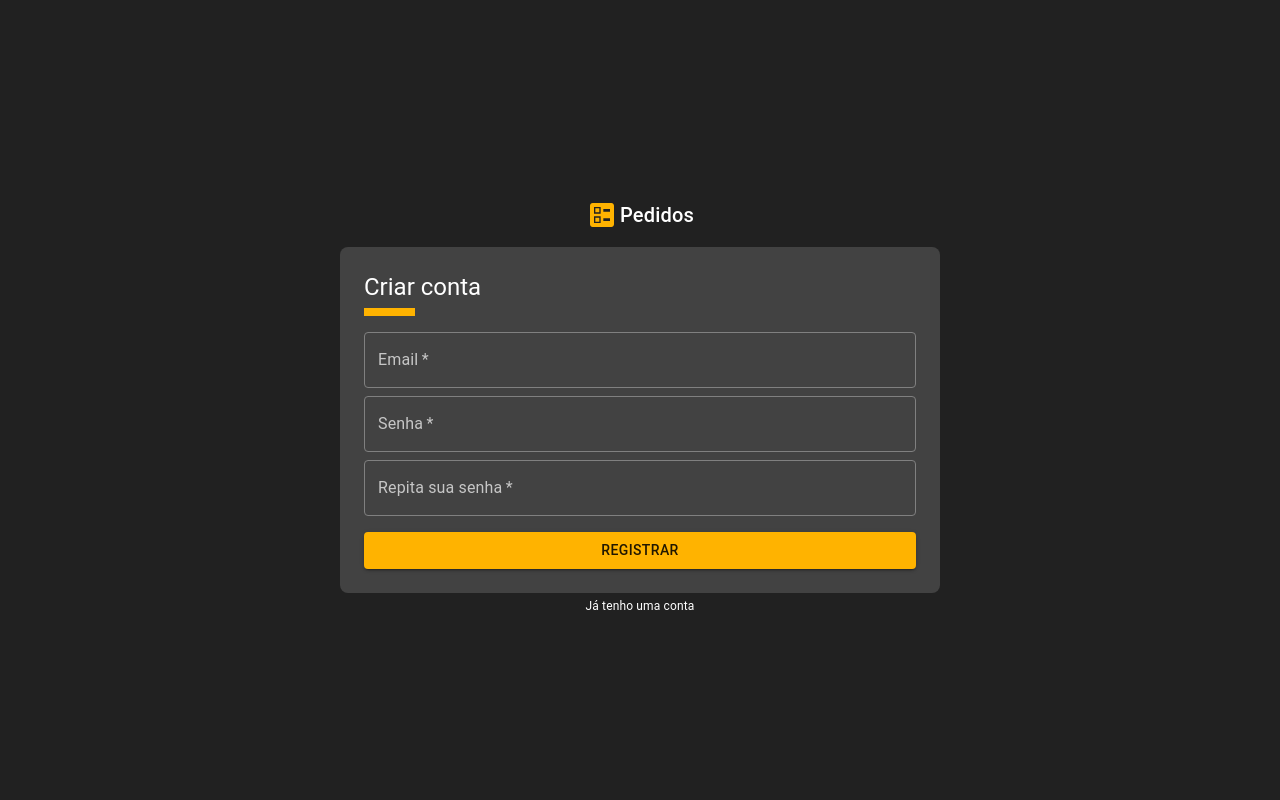
Test case: <Register /> › Email already in use
Type "teste@teste.com" into the field labelled "Email *". click: (640, 360)
box: [364,332,916,388]
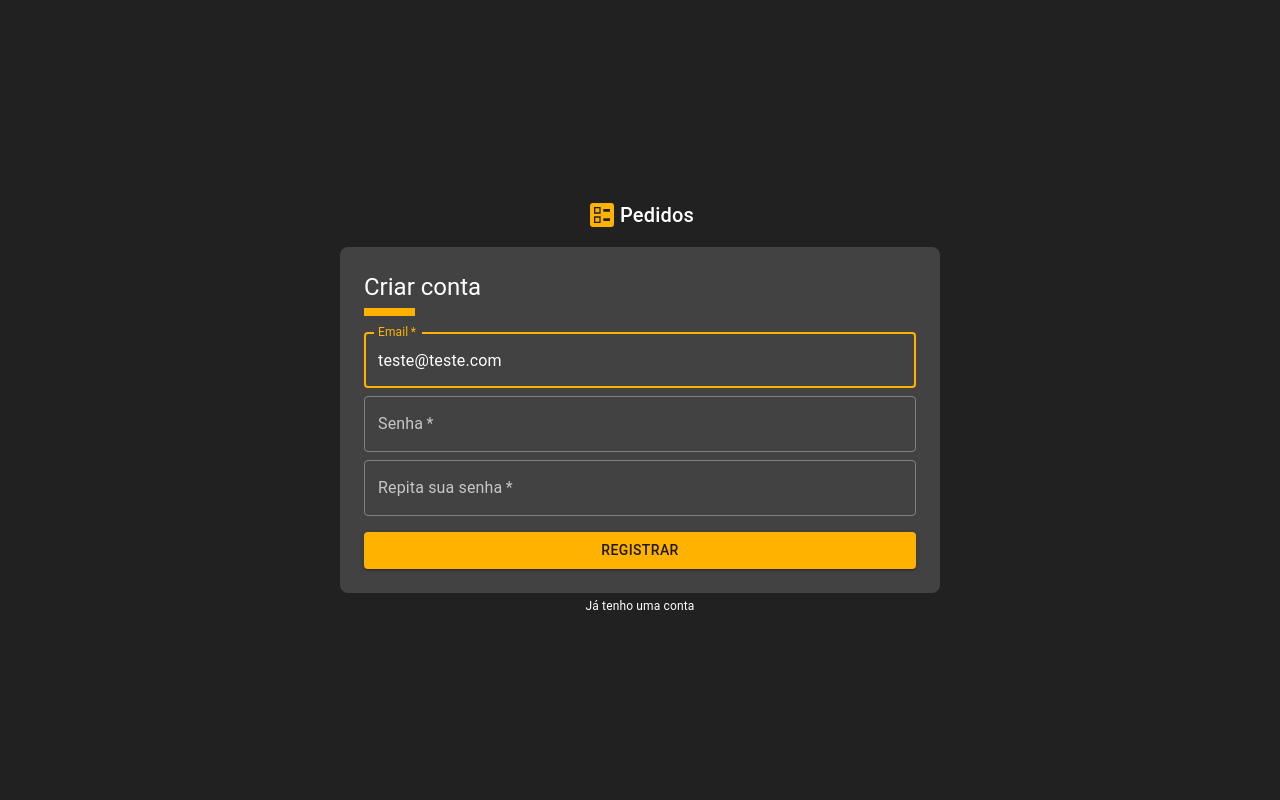
Type "123456" into the password field labelled "Senha *". click: (640, 424)
box: [364,396,916,452]
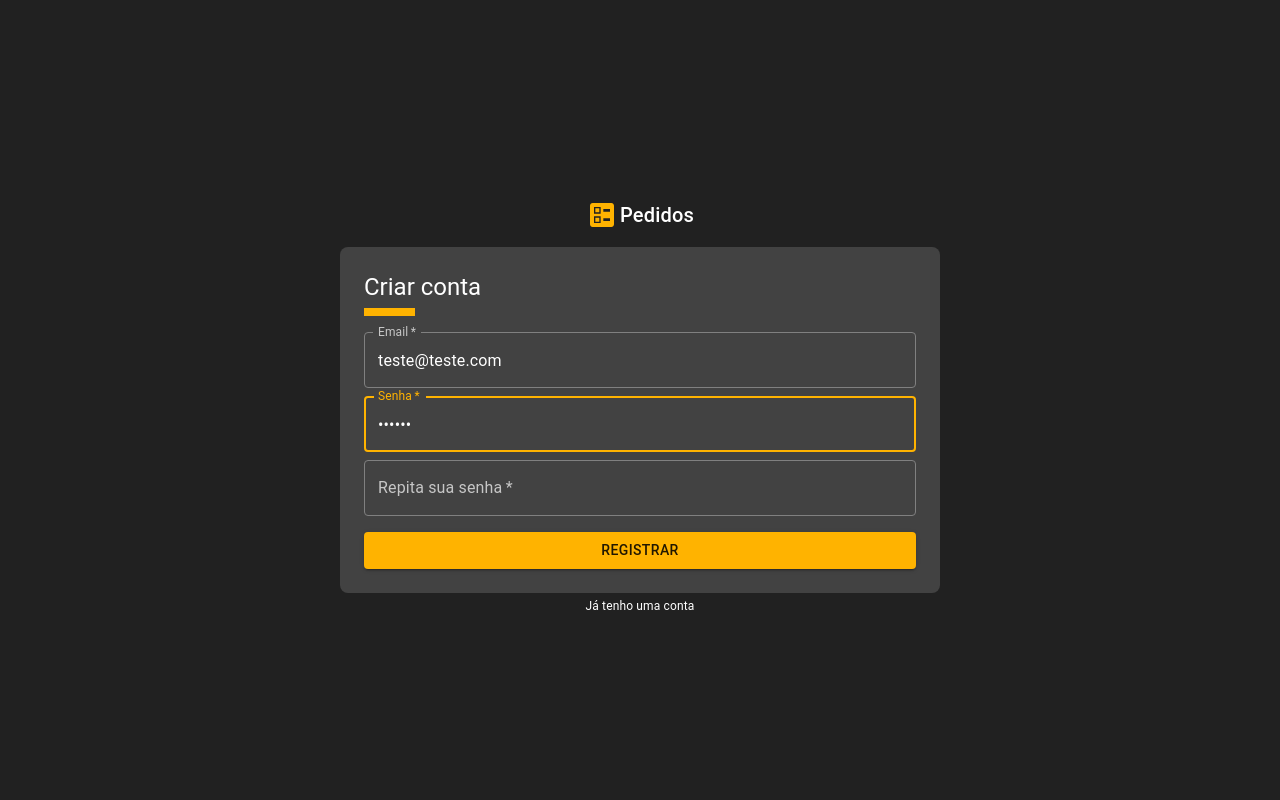
Type "123456" into the password field labelled "Repita sua senha *". click: (640, 488)
box: [364,460,916,516]
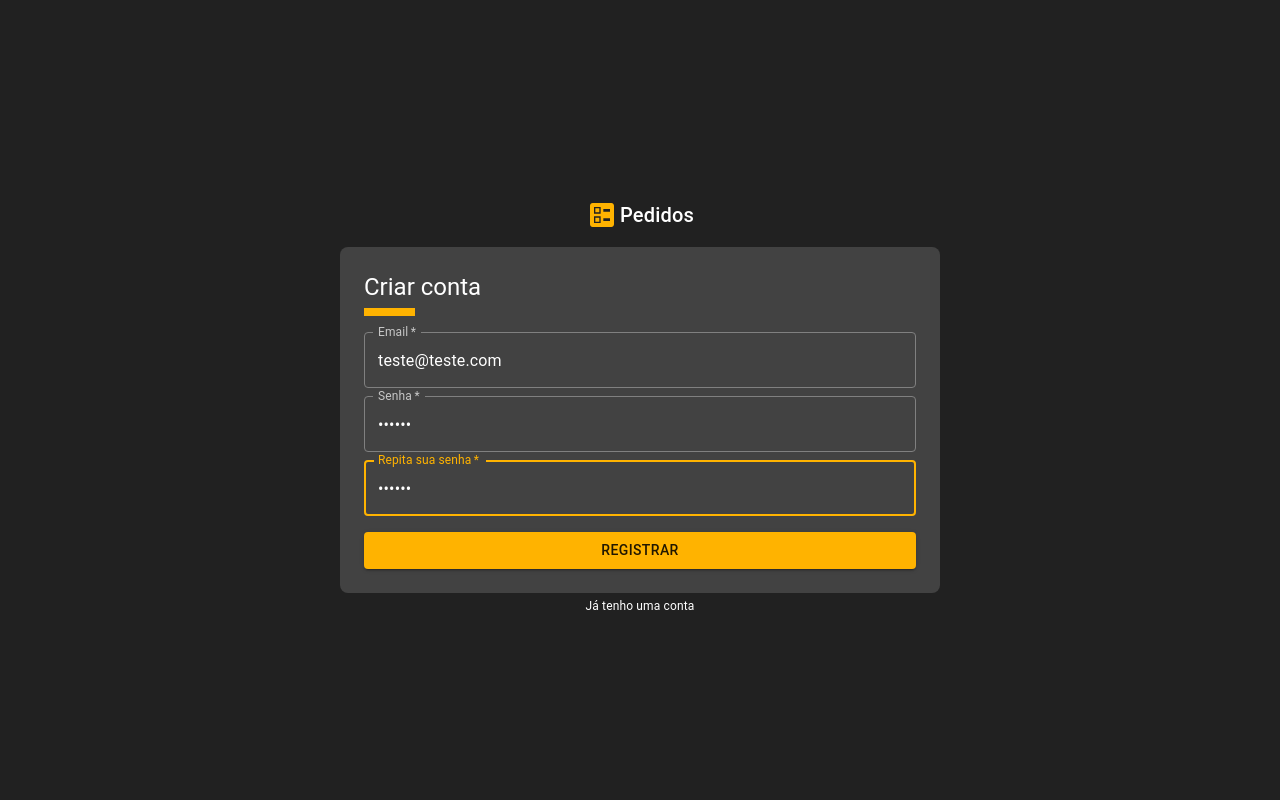
Click the button. click: (640, 551)
box: [364,532,916,569]
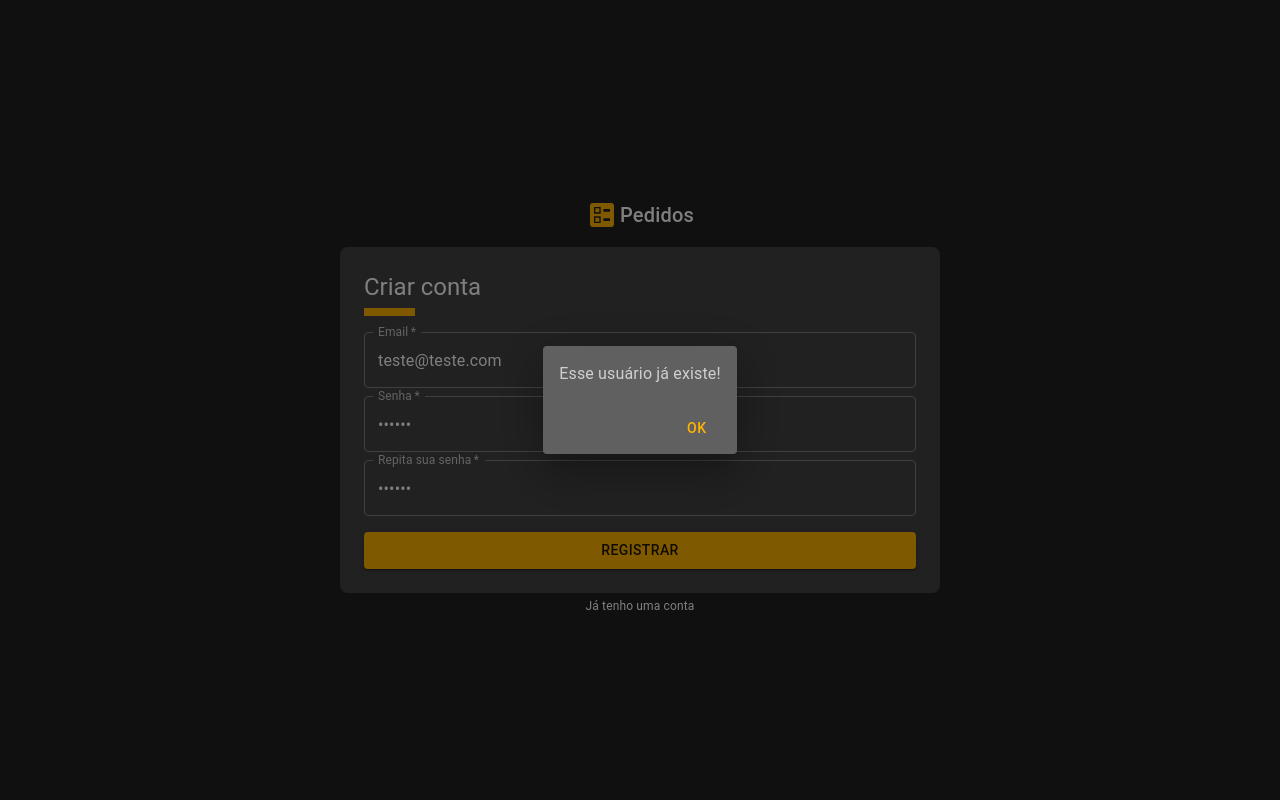
Expected: the text "Esse usuário já existe!" is shown, [559,364,721,383]
